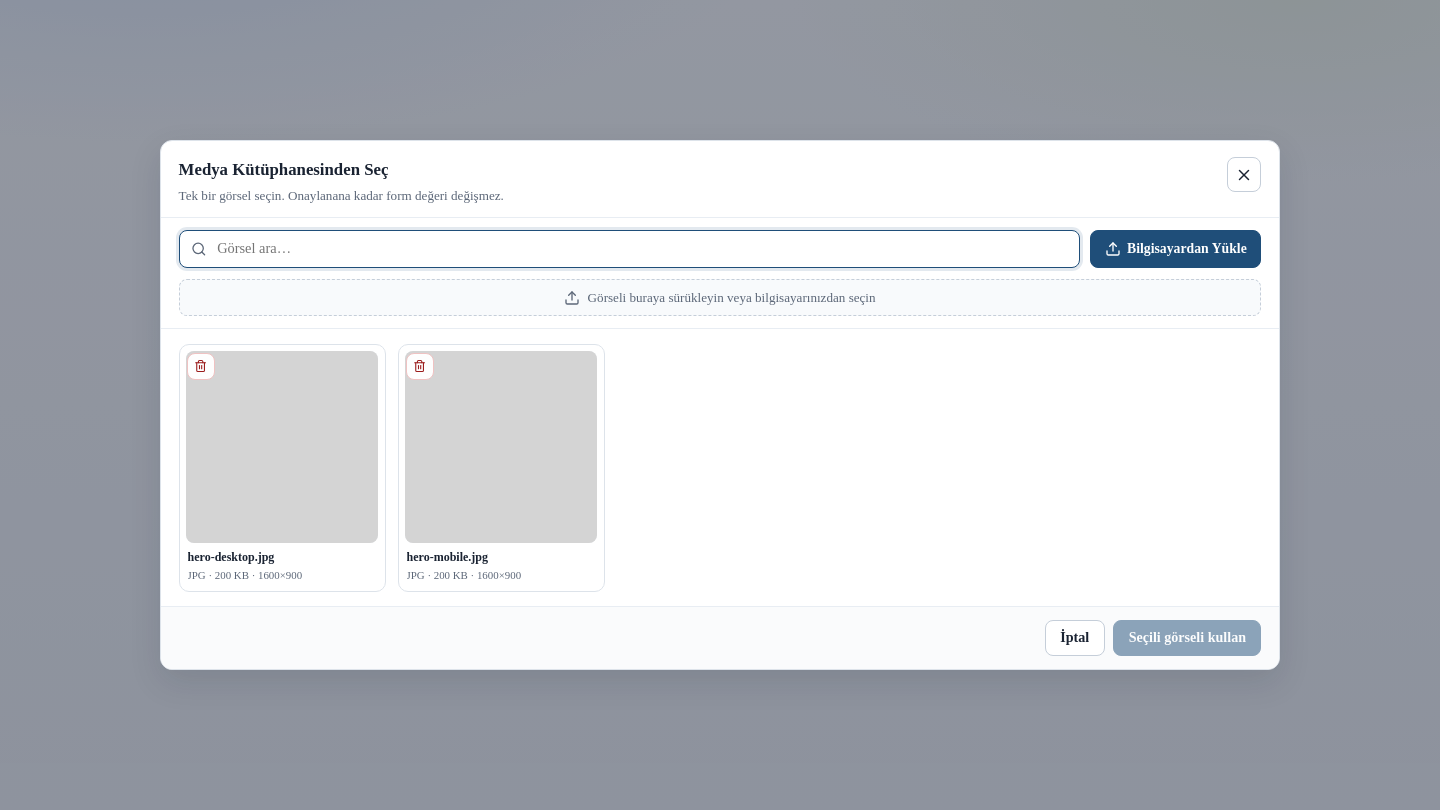
ProductCategoryMediaPicker › deletes media after confirm and clears pending selection
This screenshot has width=1440, height=810.
Click the button with aria-label "hero-desktop.jpg seç" at (282, 468), box [179, 344, 386, 592]
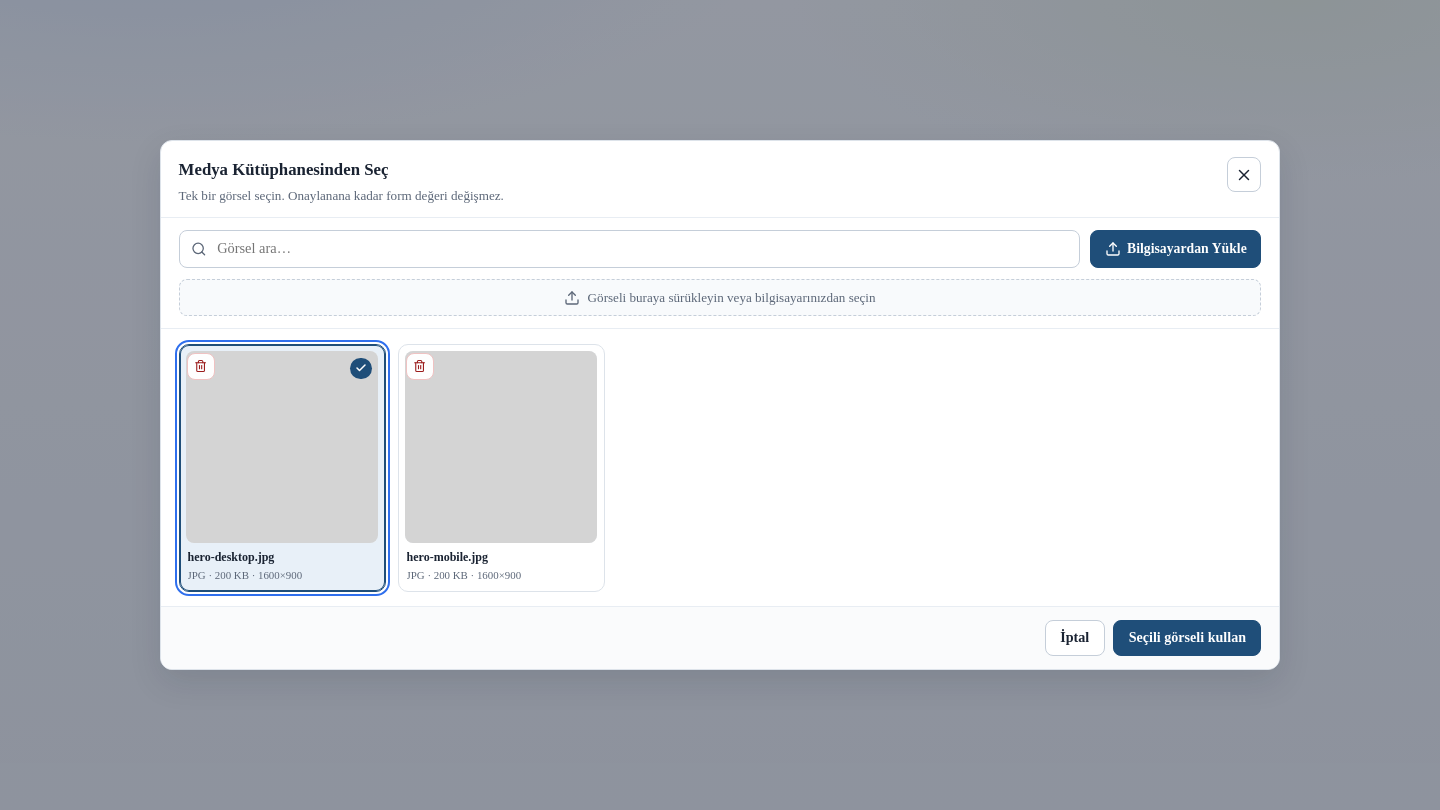
Now the button "Seçili görseli kullan" is enabled, box [1113, 620, 1261, 656]
Click the button named "hero-desktop.jpg sil" at (201, 366), box [187, 352, 215, 380]
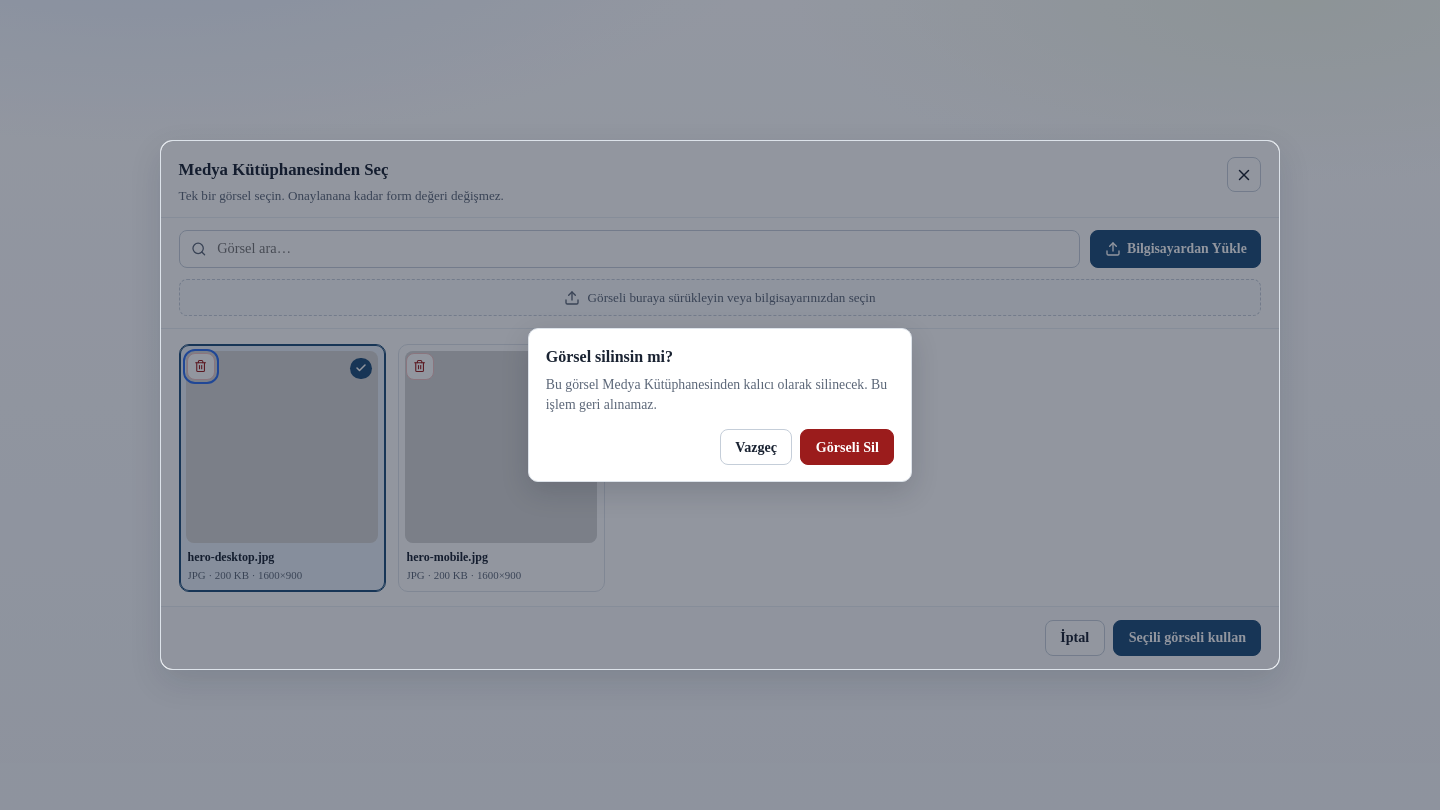
Click the button "Görseli Sil" at (847, 447), box [800, 429, 894, 465]
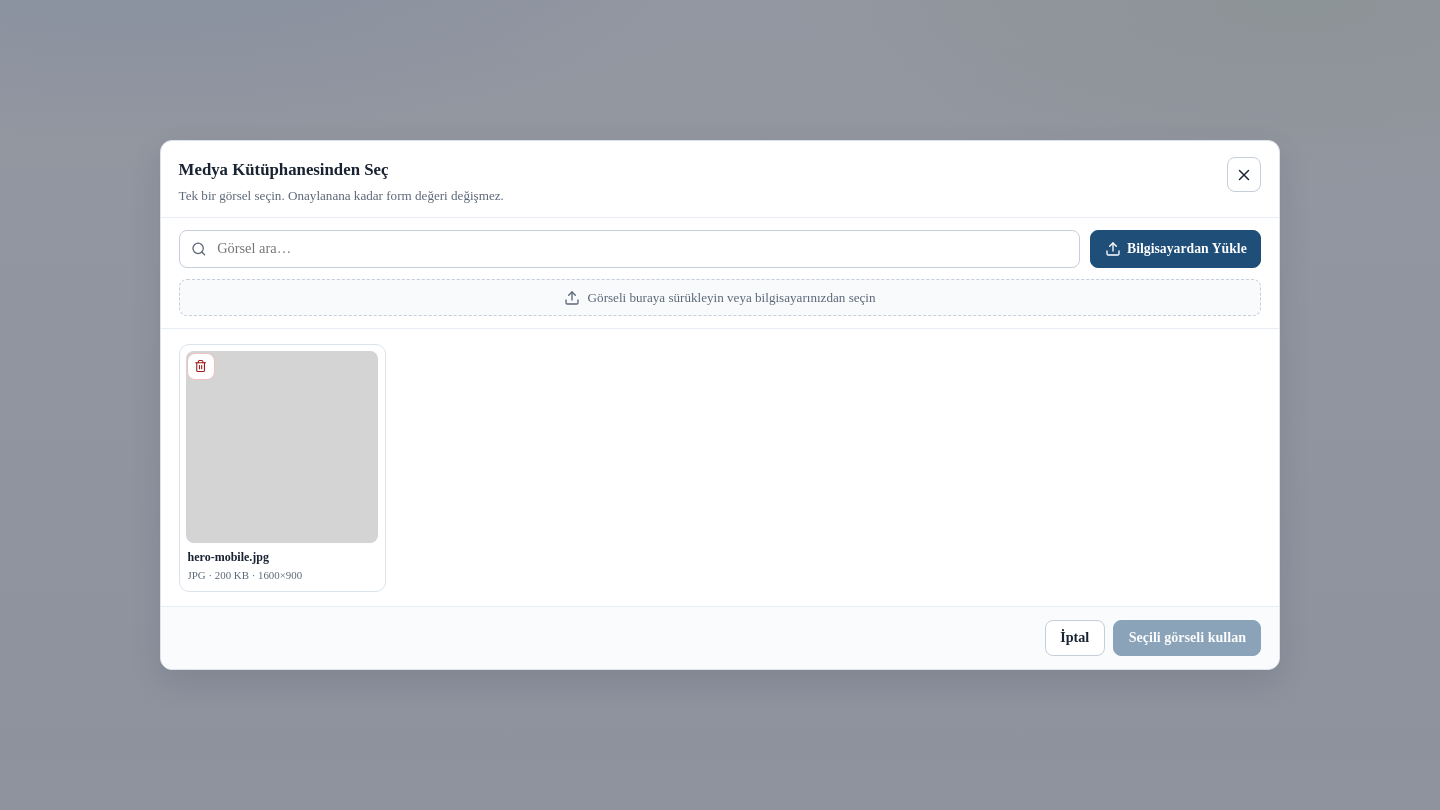
Now the button "Seçili görseli kullan" is disabled, box [1113, 620, 1261, 656]
